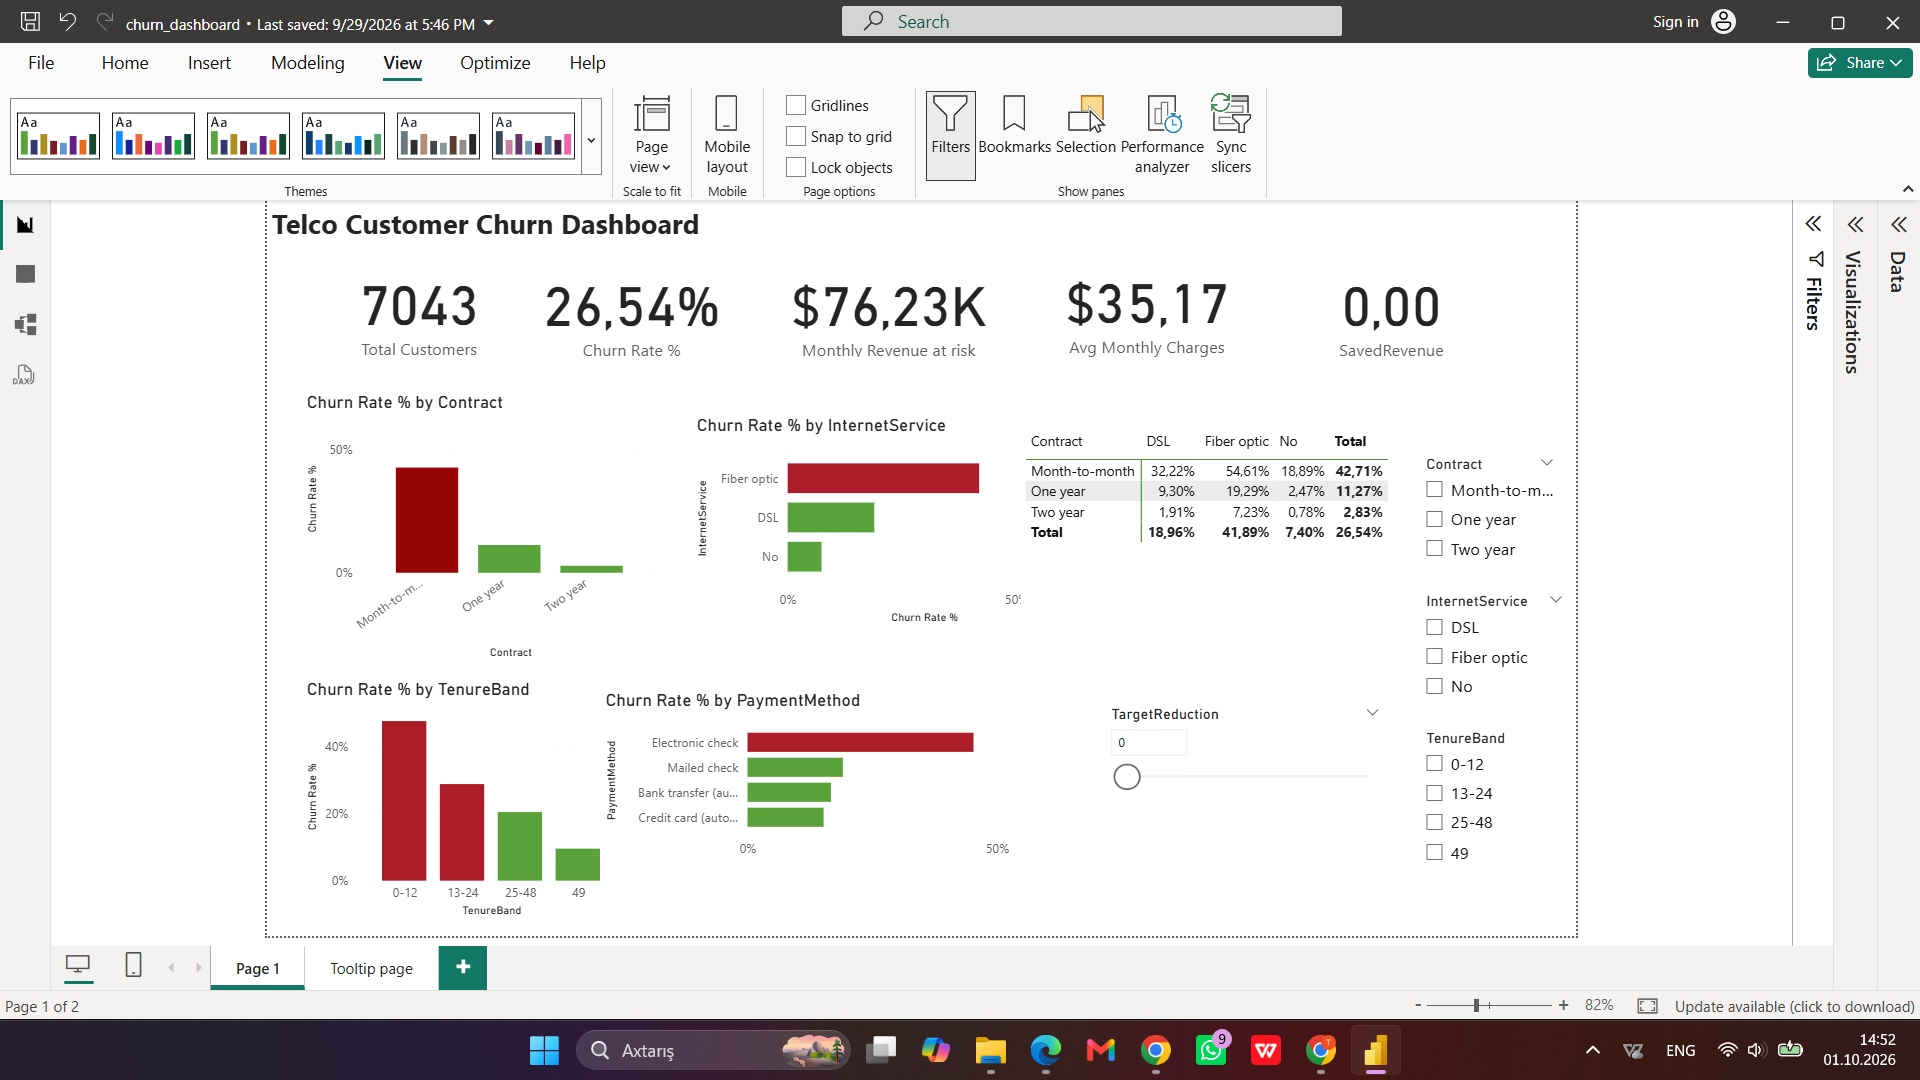

Layout of this report page (visuals, bound fields, positions):
{"tool":"powerbi","page":{"name":"Page 1","canvas":[1280,720],"ordinal":0},"visuals":[{"type":"card","fields":{"Values":["WA_Fn-UseC_-Telco-Customer-Churn.Total Customers"]},"box":[0,56.2,298.8,178.8],"z":0},{"type":"card","fields":{"Values":["WA_Fn-UseC_-Telco-Customer-Churn.Churn Rate %"]},"box":[298.8,45,298.8,190],"z":1000},{"type":"card","fields":{"Values":["WA_Fn-UseC_-Telco-Customer-Churn.Monthly Revenue at risk"]},"box":[597.5,45,300,190],"z":2000},{"type":"card","fields":{"Values":["WA_Fn-UseC_-Telco-Customer-Churn.Avg Monthly Charges"]},"box":[897.5,45,298.8,190],"z":3000},{"type":"clusteredColumnChart","fields":{"Category":["WA_Fn-UseC_-Telco-Customer-Churn.Contract"],"Y":["WA_Fn-UseC_-Telco-Customer-Churn.Churn Rate %"]},"box":[34.3,245.7,381.4,267.1],"z":4000},{"type":"clusteredBarChart","fields":{"Category":["WA_Fn-UseC_-Telco-Customer-Churn.InternetService"],"Y":["WA_Fn-UseC_-Telco-Customer-Churn.Churn Rate %"]},"box":[512.9,245.7,468.6,184.3],"z":5000},{"type":"clusteredColumnChart","fields":{"Category":["WA_Fn-UseC_-Telco-Customer-Churn.TenureBand"],"Y":["WA_Fn-UseC_-Telco-Customer-Churn.Churn Rate %"]},"box":[544.3,465.7,362.9,237.1],"z":6000},{"type":"clusteredBarChart","fields":{"Category":["WA_Fn-UseC_-Telco-Customer-Churn.PaymentMethod"],"Y":["WA_Fn-UseC_-Telco-Customer-Churn.Churn Rate %"]},"box":[34.3,528.6,478.6,174.3],"z":7000},{"type":"slicer","fields":{"Values":["WA_Fn-UseC_-Telco-Customer-Churn.Contract"]},"box":[1121.2,245,150,133.8],"z":8000},{"type":"slicer","fields":{"Values":["WA_Fn-UseC_-Telco-Customer-Churn.InternetService"]},"box":[1121.2,378.8,158.8,150],"z":9000},{"type":"slicer","fields":{"Values":["WA_Fn-UseC_-Telco-Customer-Churn.TenureBand"]},"box":[1121.2,512.5,158.8,150],"z":10000},{"type":"textbox","box":[0,0,458.8,72.5],"z":11000}]}

Visuals, with their boxes on the page's 1280x720 design canvas (x1, y1, x2, y2). These are canvas units, not pixel positions in the 1920x1080 screenshot, which may show the page scaled, cropped or inside an application window:
card - WA_Fn-UseC_-Telco-Customer-Churn.Total Customers: detection(0, 56, 299, 235)
card - WA_Fn-UseC_-Telco-Customer-Churn.Churn Rate %: detection(299, 45, 598, 235)
card - WA_Fn-UseC_-Telco-Customer-Churn.Monthly Revenue at risk: detection(598, 45, 898, 235)
card - WA_Fn-UseC_-Telco-Customer-Churn.Avg Monthly Charges: detection(898, 45, 1196, 235)
clusteredColumnChart - WA_Fn-UseC_-Telco-Customer-Churn.Contract x WA_Fn-UseC_-Telco-Customer-Churn.Churn Rate %: detection(34, 246, 416, 513)
clusteredBarChart - WA_Fn-UseC_-Telco-Customer-Churn.InternetService x WA_Fn-UseC_-Telco-Customer-Churn.Churn Rate %: detection(513, 246, 982, 430)
clusteredColumnChart - WA_Fn-UseC_-Telco-Customer-Churn.TenureBand x WA_Fn-UseC_-Telco-Customer-Churn.Churn Rate %: detection(544, 466, 907, 703)
clusteredBarChart - WA_Fn-UseC_-Telco-Customer-Churn.PaymentMethod x WA_Fn-UseC_-Telco-Customer-Churn.Churn Rate %: detection(34, 529, 513, 703)
slicer - WA_Fn-UseC_-Telco-Customer-Churn.Contract: detection(1121, 245, 1271, 379)
slicer - WA_Fn-UseC_-Telco-Customer-Churn.InternetService: detection(1121, 379, 1280, 529)
slicer - WA_Fn-UseC_-Telco-Customer-Churn.TenureBand: detection(1121, 512, 1280, 662)
textbox: detection(0, 0, 459, 72)
